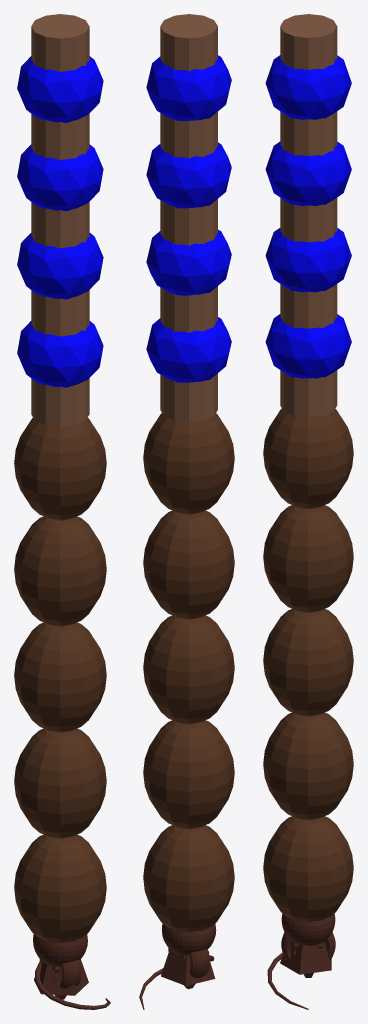
File: Wand 235.glb
3 renders of one model, left to right at view 1: azimuth 30°, elevation 25°; view 2: azimuth 210°, elevation 25°; view 3: azimuth 270°, elevation 25°, orthographic. The views are drawn at different scales.
Visible parts, largest first — view 1: GeneratedWand, Pommel_4, Pommel_9, Pommel_10, Pommel_2; view 2: GeneratedWand, Pommel_4, Pommel_9, Pommel_2; view 3: GeneratedWand, Pommel_4, Pommel_9, Pommel_2, Pommel_10.
Part boxes in pixels (box(x1,y1,x2,y2)): GeneratedWand: box(14, 14, 106, 973); Pommel_4: box(33, 934, 87, 967); Pommel_9: box(34, 959, 88, 995); Pommel_10: box(35, 961, 110, 1009); Pommel_2: box(39, 959, 81, 988); GeneratedWand: box(143, 14, 234, 960); Pommel_4: box(161, 923, 216, 955); Pommel_9: box(161, 949, 215, 985); Pommel_2: box(168, 948, 209, 977); GeneratedWand: box(263, 14, 353, 949); Pommel_4: box(281, 913, 335, 945); Pommel_9: box(280, 941, 331, 974); Pommel_2: box(281, 932, 335, 961); Pommel_10: box(267, 952, 308, 1009).
Size of the model in its own units: 0.0481 by 0.5262 by 0.0449.
